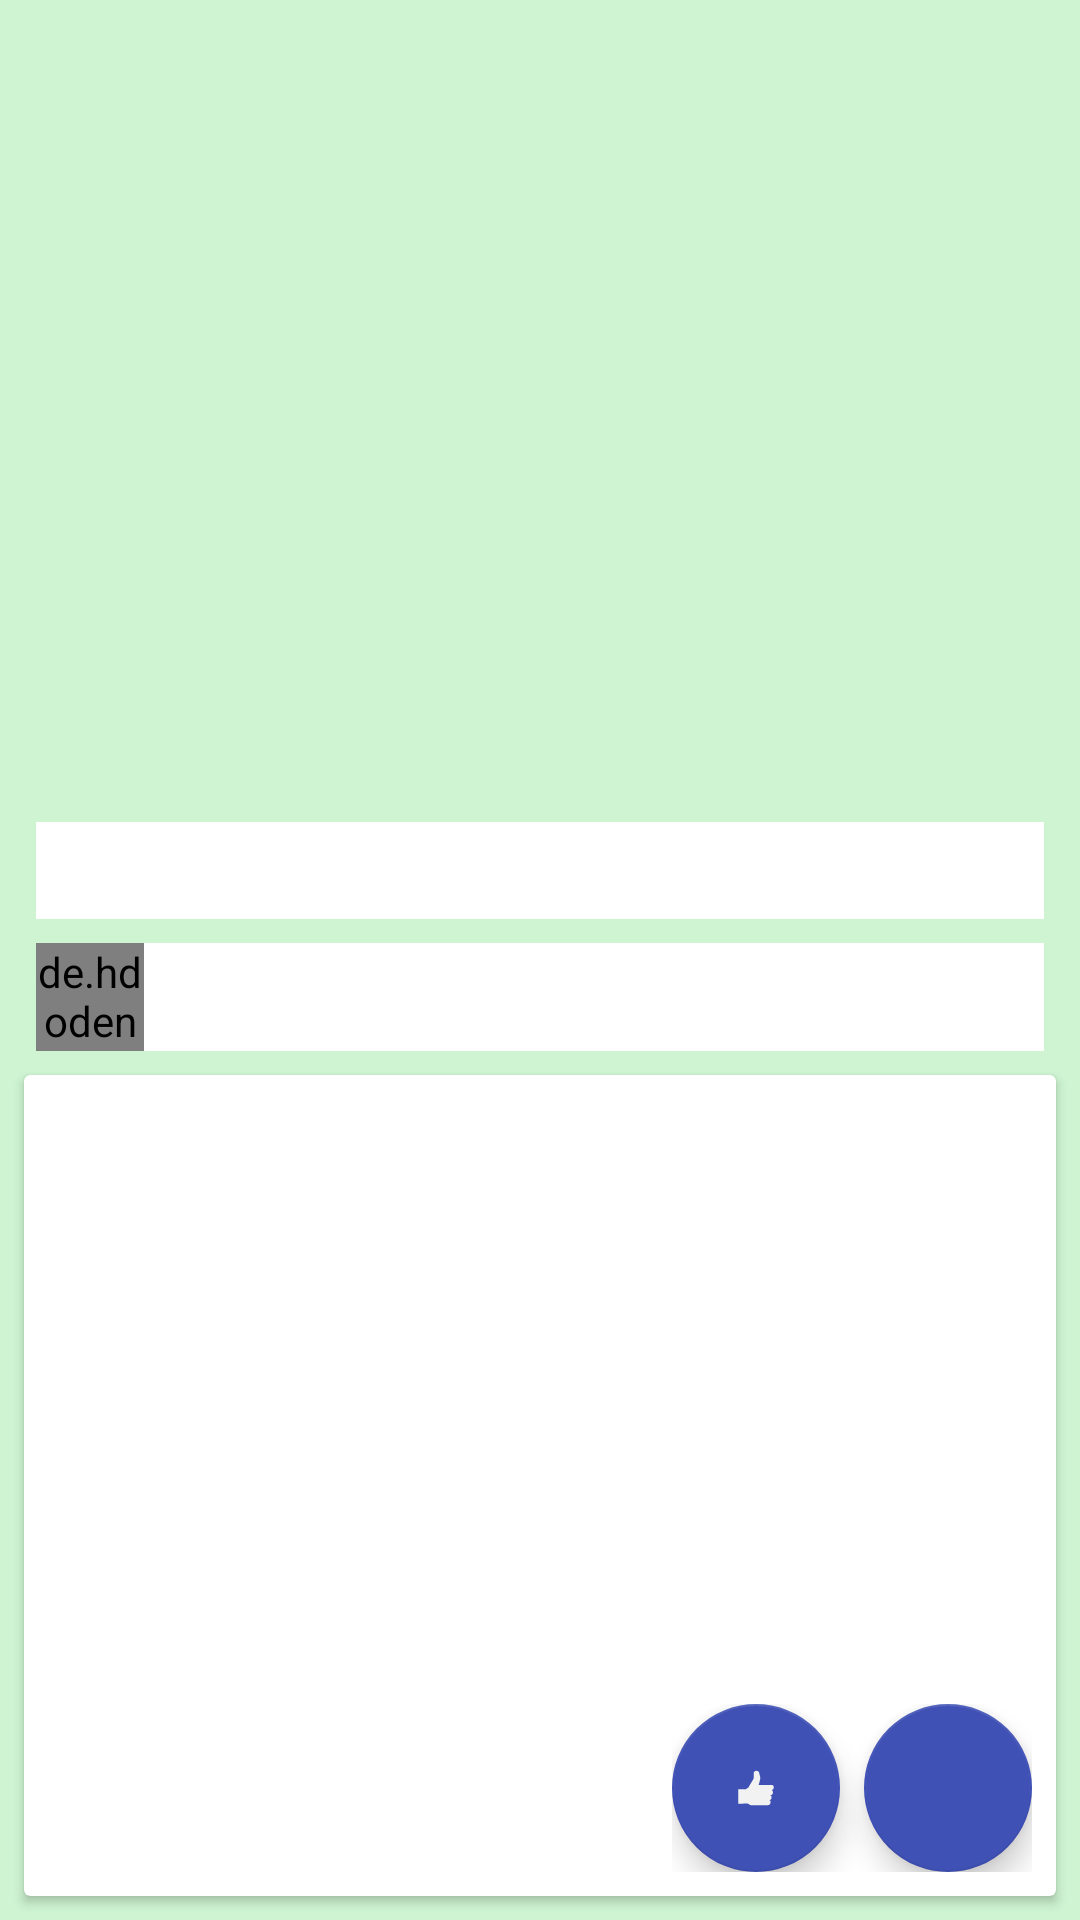

Icon bounding boxes for this 1080*1920 phone screenshot, format (x1, y1, x2, y2):
like: (672, 1704, 840, 1872)
